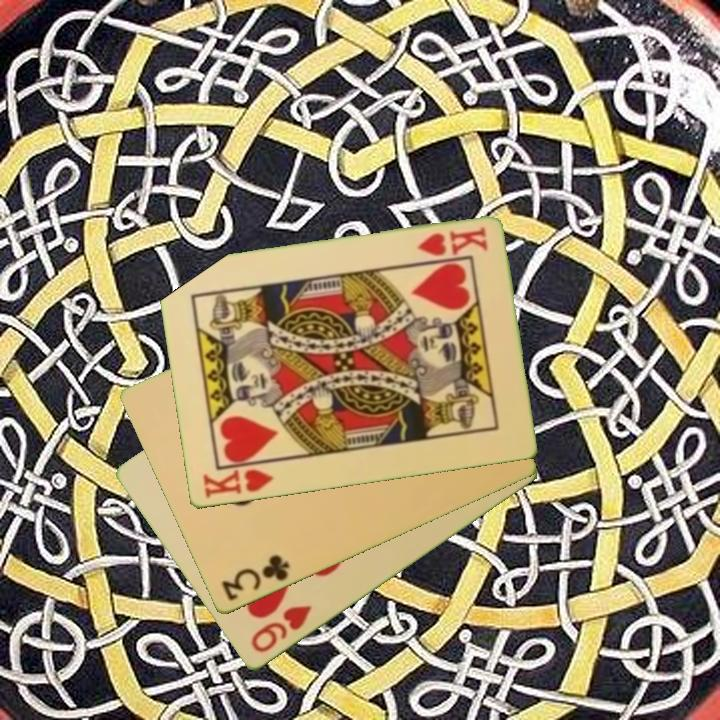3c: (218, 551, 293, 605)
9h: (247, 602, 315, 656)
Kh: (199, 458, 279, 501), (413, 224, 490, 260)
